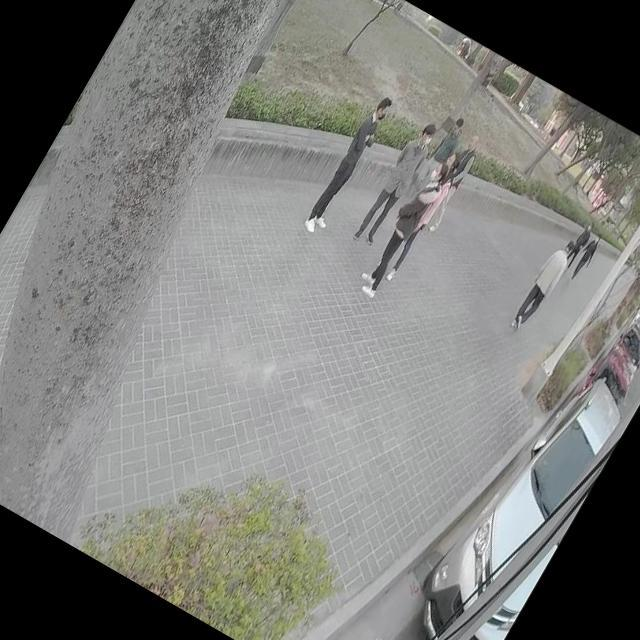person: (350, 148, 459, 308), (374, 140, 472, 288), (302, 94, 396, 233), (352, 114, 444, 250), (413, 126, 492, 242), (503, 230, 581, 339), (406, 108, 474, 206), (565, 228, 606, 284), (564, 216, 598, 264)
